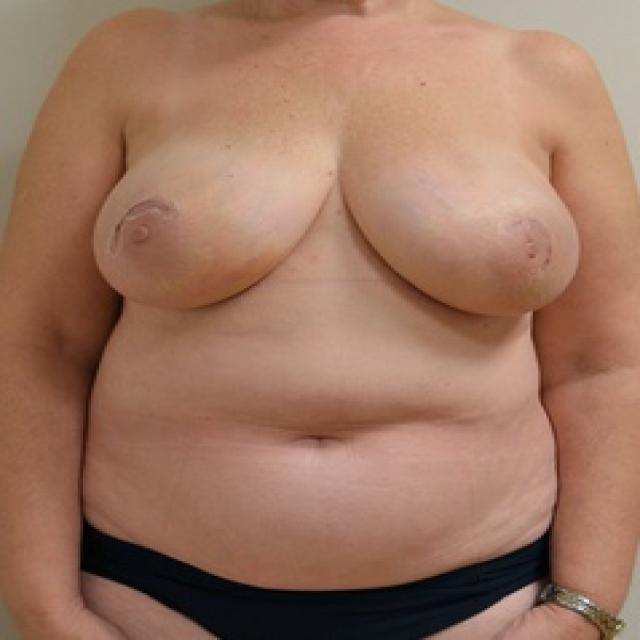Seno herido: (341, 112, 591, 332), (82, 112, 335, 327)
